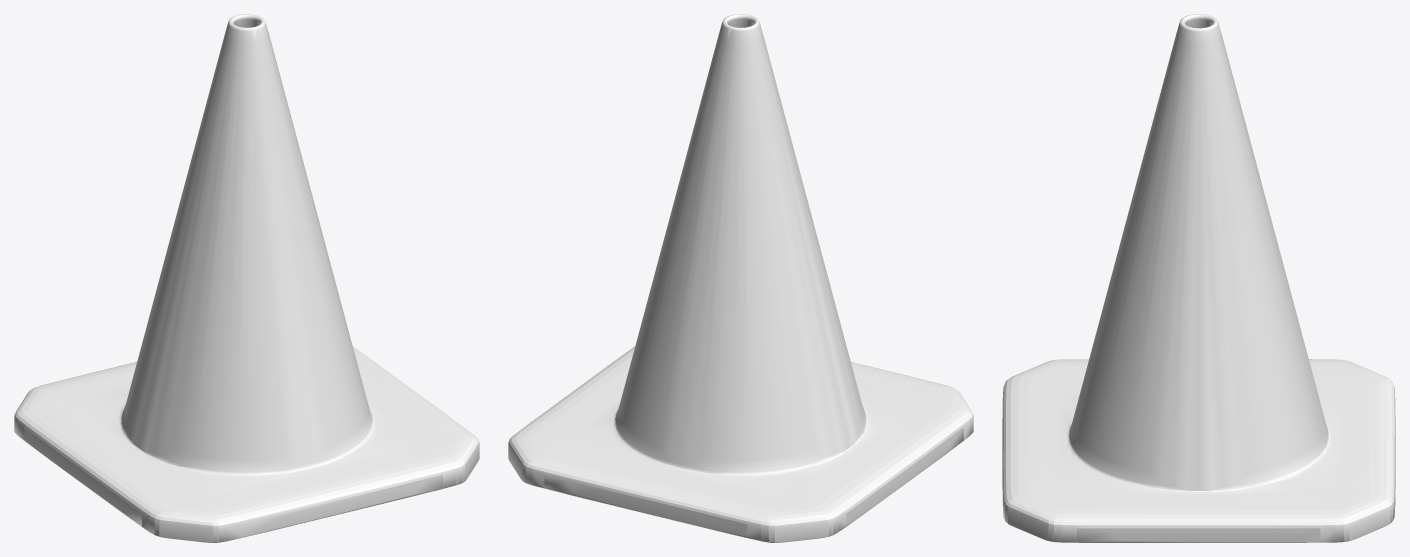
3 views of the same model, side by side, from view 1: azimuth 30°, elevation 25°; view 2: azimuth 150°, elevation 25°; view 3: azimuth 270°, elevation 25° (orthographic). The views are drawn at different scales.
Parts seen in each view (by area): view 1: Cone.001; view 2: Cone.001; view 3: Cone.001.
Boxes of the visible parts, x1,y1,x2,y2 form: Cone.001: (14,14,479,542); Cone.001: (508,14,973,542); Cone.001: (1002,14,1395,542).
Bounding box in the file's own units: 0.4199 × 0.5188 × 0.4199.
Materials: 1 (1 with a texture image).
